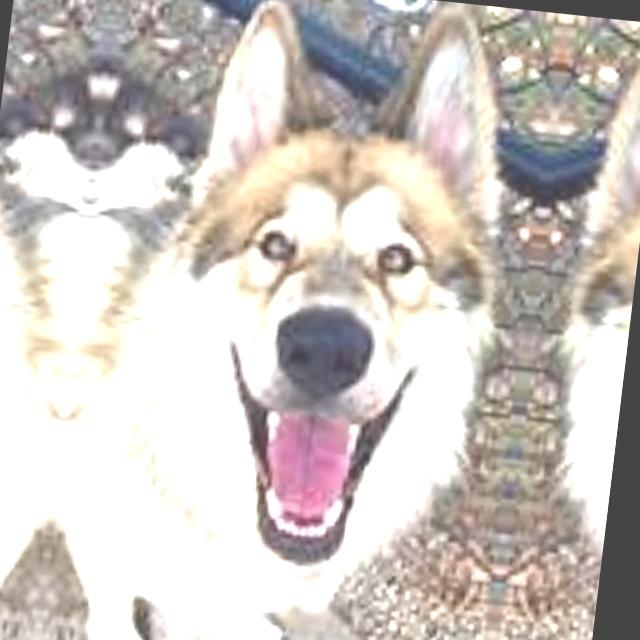dog: (42, 0, 536, 640), (514, 34, 640, 640), (0, 0, 107, 640)
